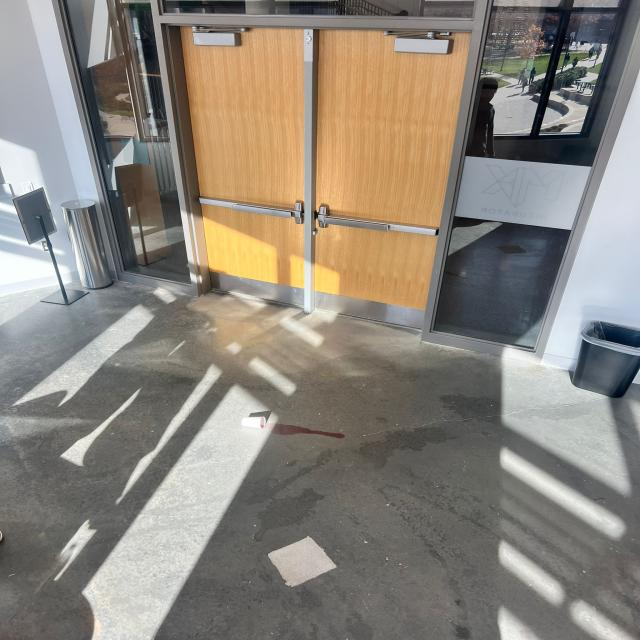cup: (241, 416, 266, 429)
spill: (266, 423, 348, 439)
